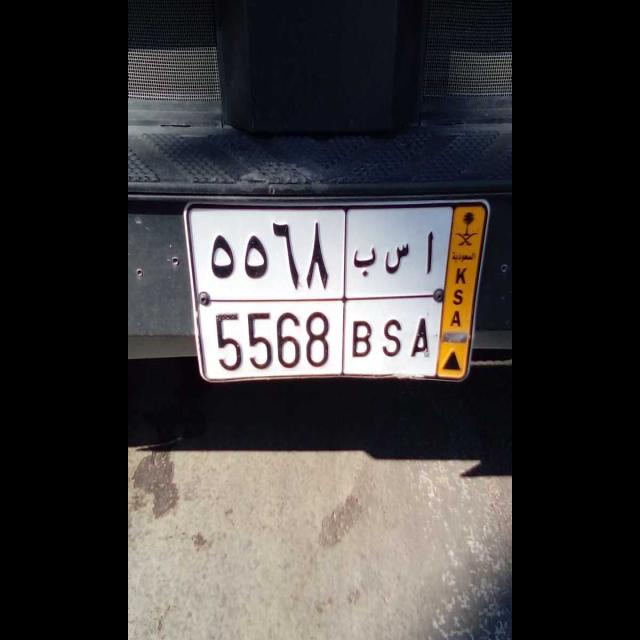license_plate: (196, 299, 442, 379)
